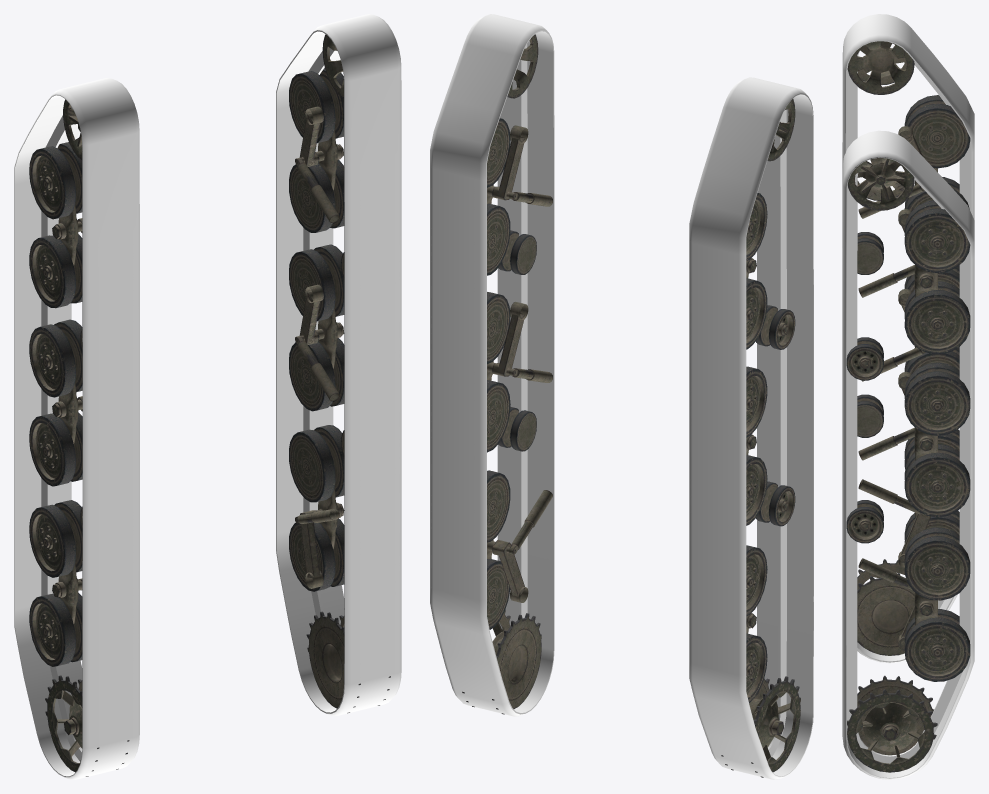
Rendered from Chassis.glb.
3 renders of one model, left to right at view 1: azimuth 30°, elevation 25°; view 2: azimuth 150°, elevation 25°; view 3: azimuth 270°, elevation 25°, orthographic. The views are drawn at different scales.
Visible parts, largest first — view 1: set_0_group_0, set_1_group_0, set_3_group_0, set_2_group_0; view 2: set_0_group_0, set_1_group_0, set_3_group_0, set_2_group_0; view 3: set_3_group_0, set_1_group_0, set_2_group_0, set_0_group_0.
Part boxes in pixels (left/top/right/bottom): set_0_group_0: left=14, top=78, right=139, bottom=779; set_1_group_0: left=276, top=14, right=401, bottom=715; set_3_group_0: left=289, top=34, right=390, bottom=713; set_2_group_0: left=29, top=99, right=129, bottom=776; set_0_group_0: left=689, top=77, right=813, bottom=779; set_1_group_0: left=430, top=14, right=554, bottom=716; set_3_group_0: left=462, top=34, right=552, bottom=714; set_2_group_0: left=721, top=99, right=800, bottom=777; set_3_group_0: left=846, top=158, right=970, bottom=772; set_1_group_0: left=842, top=130, right=974, bottom=779; set_2_group_0: left=847, top=41, right=970, bottom=655; set_0_group_0: left=842, top=14, right=974, bottom=663.
Bounding box in the file's own units: 2.25 × 4.63 × 0.8859.
Materials: 4 (2 with a texture image).
